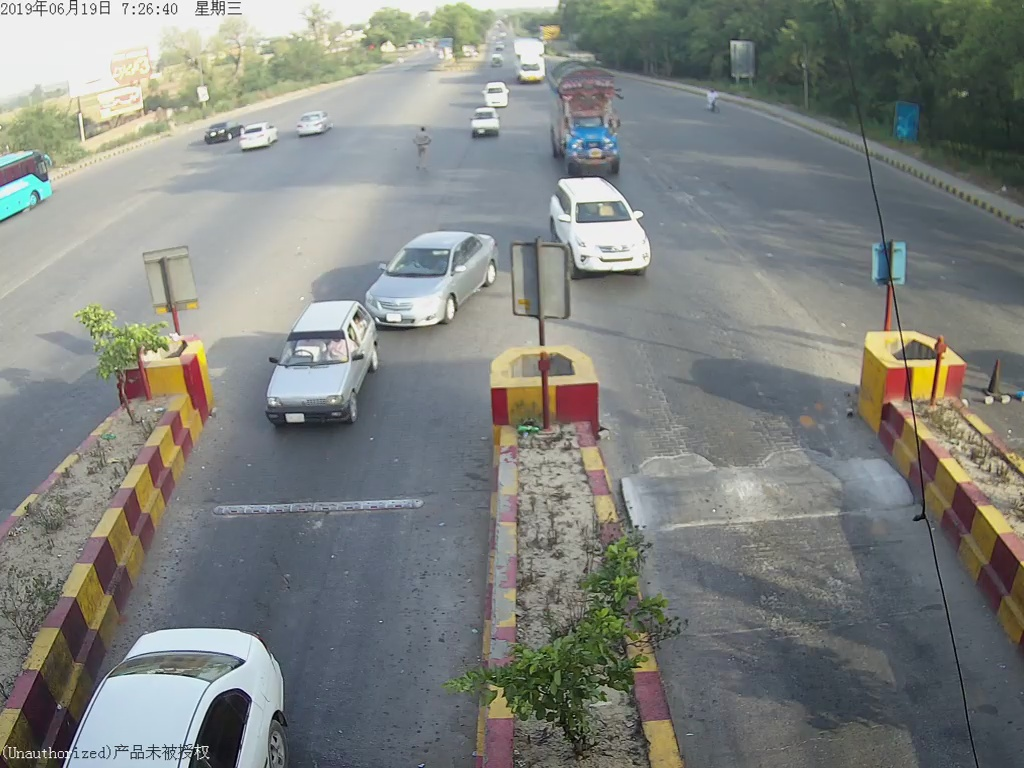Cat-1: (262, 310, 379, 422), (377, 231, 498, 322), (559, 181, 657, 279)
Cat-4: (550, 64, 629, 176)
